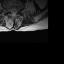CCS_normal: (12, 8, 14, 17)
LFS_normal: (17, 7, 19, 13)
LLS_normal: (14, 8, 17, 16)
RFS_stenosis: (8, 7, 10, 13)
RLS_normal: (10, 8, 12, 16)
